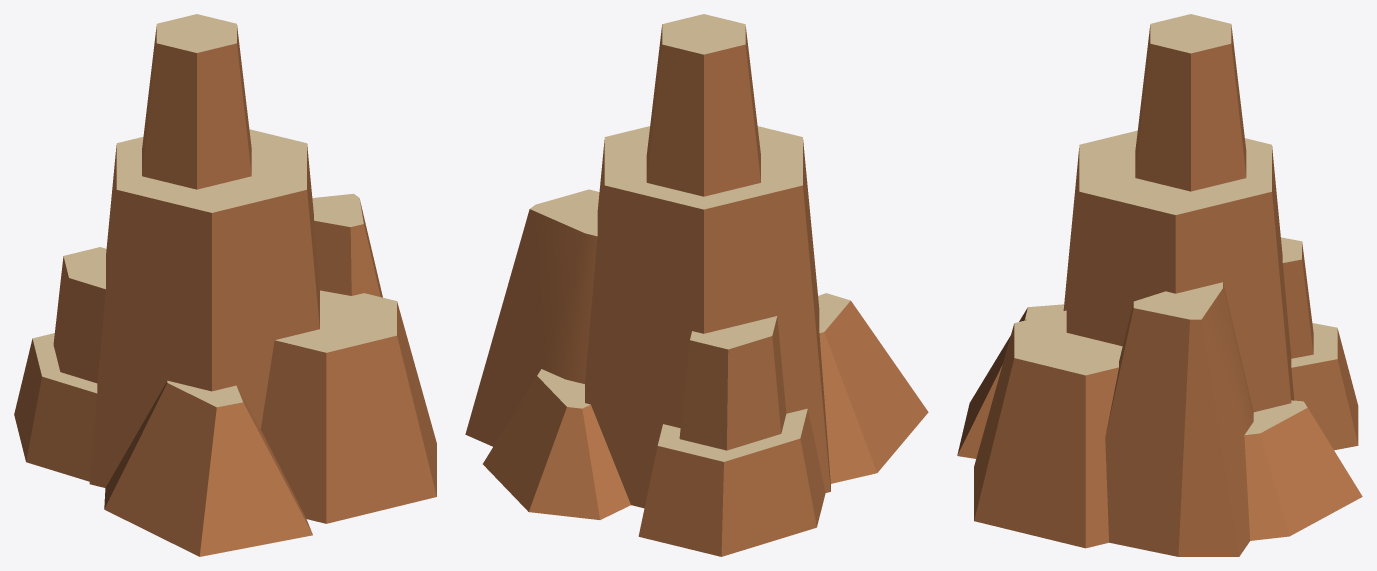
Rendered from formation_rock.fbx.
The picture shows the model from 3 angles, left to right: view 1: azimuth 30°, elevation 25°; view 2: azimuth 150°, elevation 25°; view 3: azimuth 270°, elevation 25°; orthographic projection. The views are drawn at different scales.
Parts seen in each view (by area): view 1: formation_rock; view 2: formation_rock; view 3: formation_rock.
Boxes of the visible parts, x1,y1,x2,y2 form: formation_rock: (14,14,436,556); formation_rock: (465,14,928,556); formation_rock: (957,14,1362,556).
Size of the model in its own units: 10.6 by 12.25 by 10.67.
